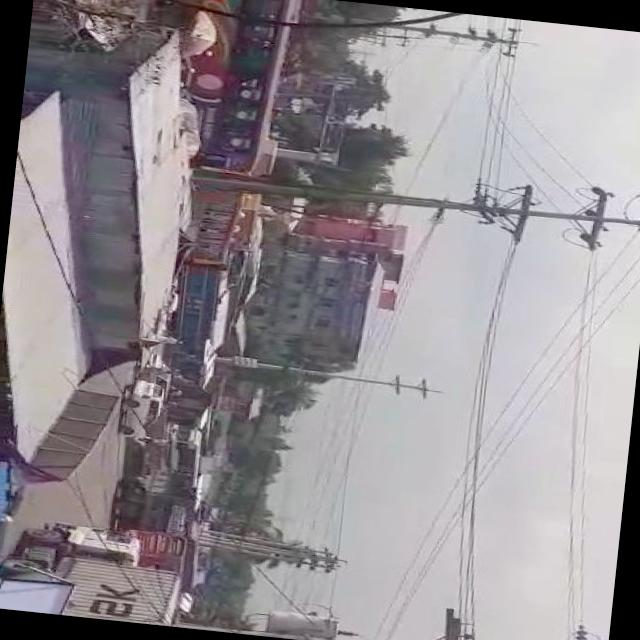bus: (165, 0, 304, 167), (173, 168, 249, 248), (122, 530, 198, 592), (159, 428, 206, 484)
car: (119, 380, 169, 441), (134, 351, 178, 388)
truck: (0, 517, 182, 624), (108, 470, 183, 534)
